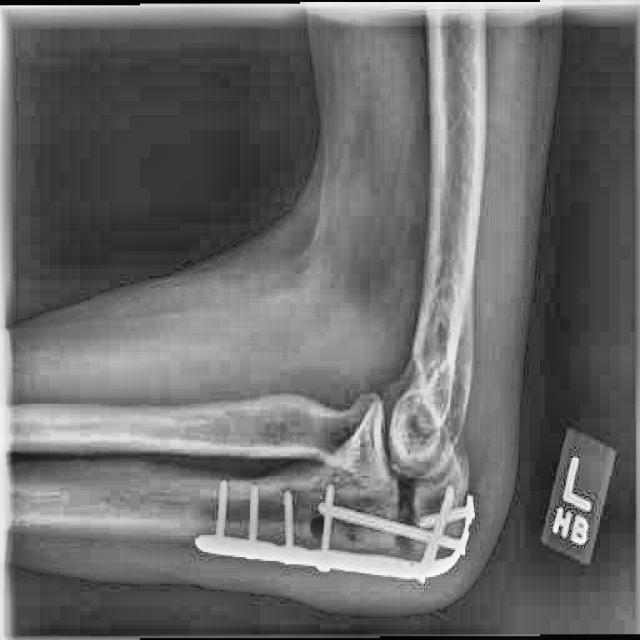elbow positive: (386, 473, 436, 527)
